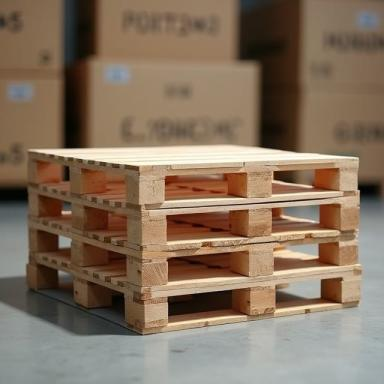pallet: (25, 250, 362, 335), (28, 215, 363, 291), (28, 183, 360, 251), (27, 144, 360, 210), (168, 290, 232, 316), (164, 174, 228, 198), (166, 253, 231, 276), (167, 211, 230, 234), (275, 280, 321, 307), (282, 205, 320, 222)
